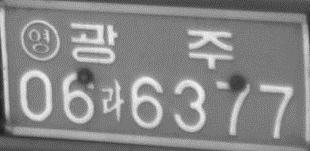0: (19, 68, 54, 122)
3: (172, 79, 207, 133)
6: (129, 74, 163, 129), (61, 72, 95, 125)
7: (257, 83, 294, 140), (215, 78, 251, 136)
광주_D: (69, 22, 234, 70)
라: (100, 79, 124, 123)
영: (20, 18, 61, 63)
